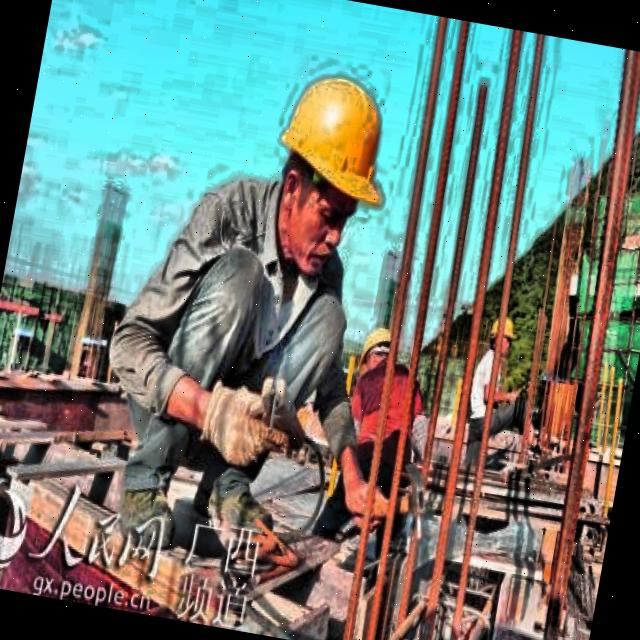helmet: (248, 43, 410, 294), (347, 320, 402, 405), (486, 307, 519, 357)
